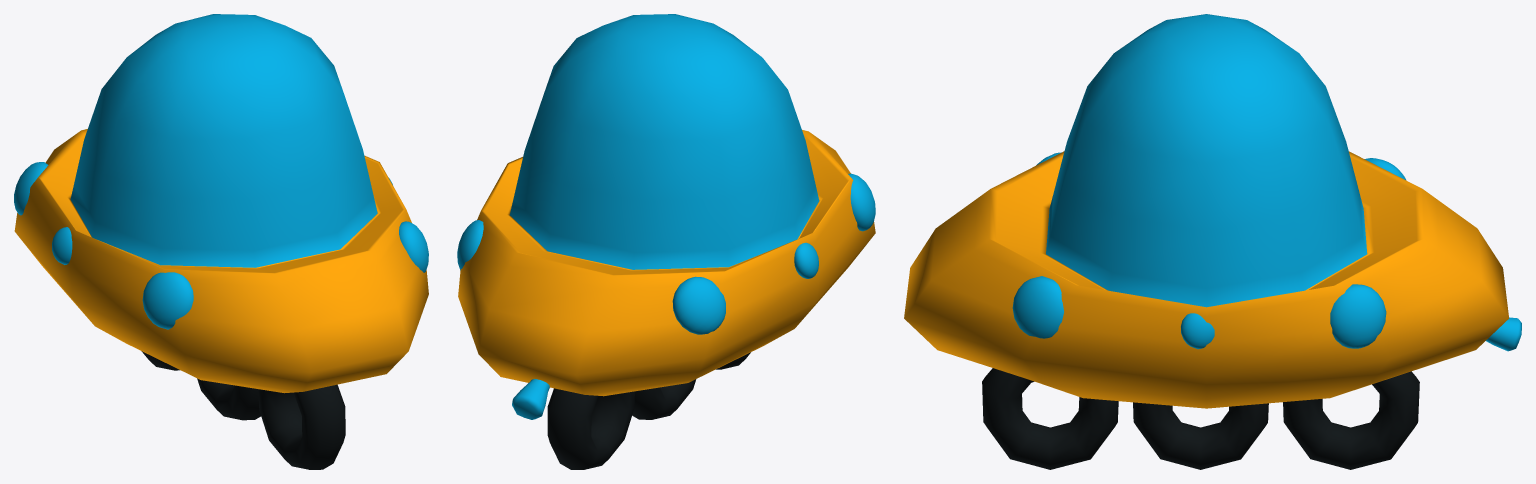
Rendered from Car_yellow.FBX.
The picture shows the model from 3 angles, left to right: view 1: azimuth 30°, elevation 25°; view 2: azimuth 150°, elevation 25°; view 3: azimuth 270°, elevation 25°; orthographic projection. The views are drawn at different scales.
Parts seen in each view (by area): view 1: polySurface33; view 2: polySurface33; view 3: polySurface33.
Boxes of the visible parts, x1,y1,x2,y2 form: polySurface33: [14, 14, 428, 469]; polySurface33: [457, 14, 875, 469]; polySurface33: [904, 14, 1521, 469].
Bounding box in the file's own units: 107 × 123 × 160.
